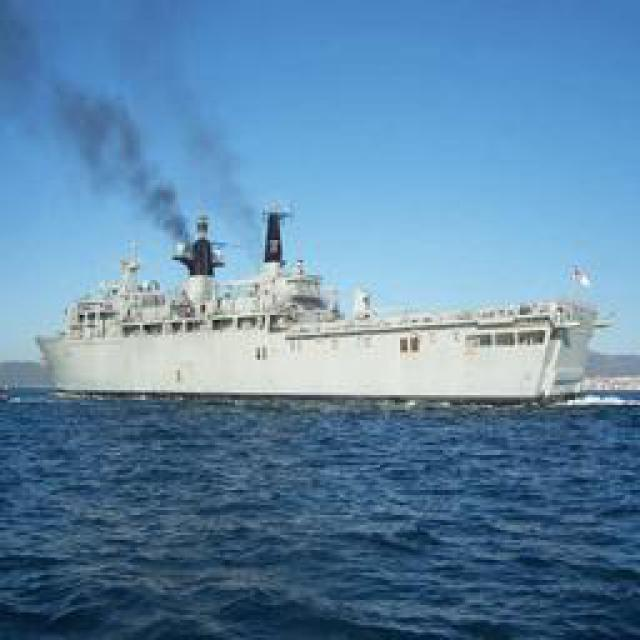Ship: (41, 210, 604, 405)
